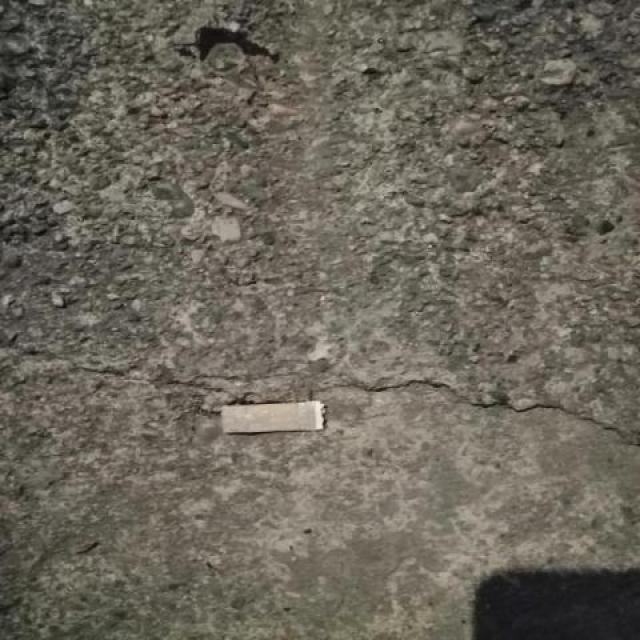non-organic waste: (217, 395, 332, 440)
